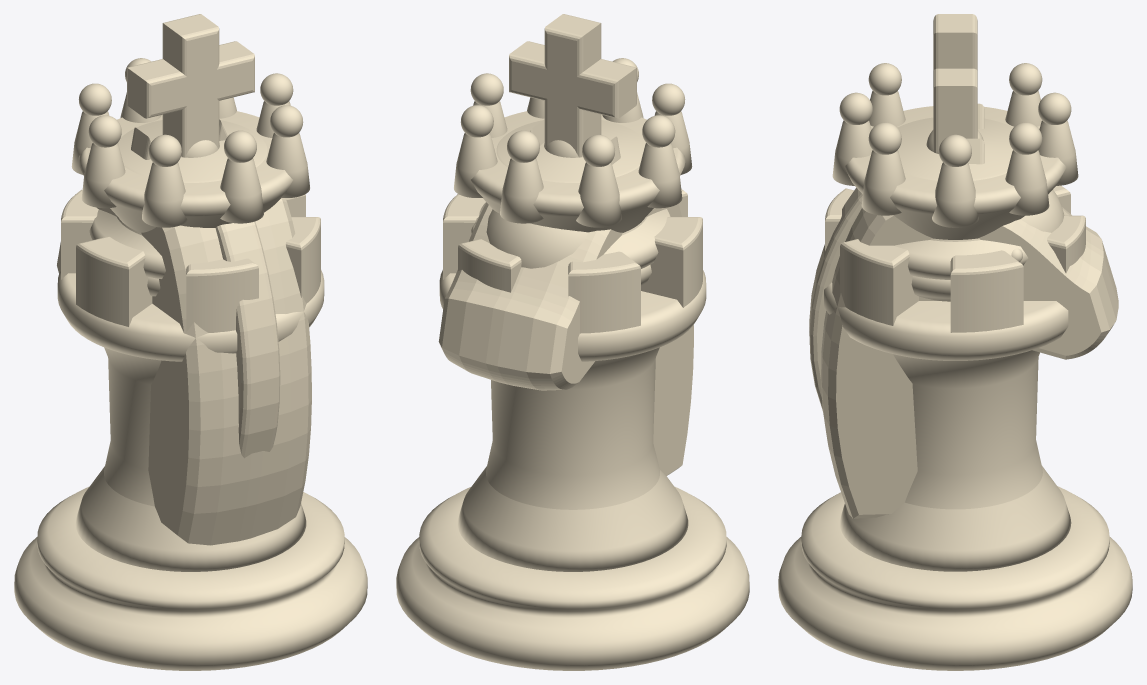
Rendered from chess.glb.
3 views of the same model, side by side, from view 1: azimuth 30°, elevation 25°; view 2: azimuth 150°, elevation 25°; view 3: azimuth 270°, elevation 25° (orthographic).
Visible parts, largest first — view 1: white_king_sculpture, white_knight_sculpture, white_rook_sculpture, white_queen_sculpture; view 2: white_king_sculpture, white_rook_sculpture, white_knight_sculpture, white_queen_sculpture; view 3: white_king_sculpture, white_rook_sculpture, white_knight_sculpture, white_queen_sculpture.
Part boxes in pixels (x1=…): white_king_sculpture: x1=14, y1=14, x2=367, y2=670; white_knight_sculpture: x1=57, y1=119, x2=311, y2=545; white_rook_sculpture: x1=57, y1=189, x2=324, y2=506; white_queen_sculpture: x1=71, y1=58, x2=309, y2=296; white_king_sculpture: x1=396, y1=14, x2=749, y2=670; white_rook_sculpture: x1=439, y1=189, x2=706, y2=509; white_knight_sculpture: x1=438, y1=119, x2=693, y2=475; white_queen_sculpture: x1=454, y1=58, x2=692, y2=285; white_king_sculpture: x1=778, y1=14, x2=1132, y2=670; white_rook_sculpture: x1=824, y1=185, x2=1085, y2=509; white_knight_sculpture: x1=809, y1=103, x2=1118, y2=518; white_queen_sculpture: x1=832, y1=63, x2=1078, y2=301.
Size of the model in its own units: 0.66 by 1.2 by 0.66.
